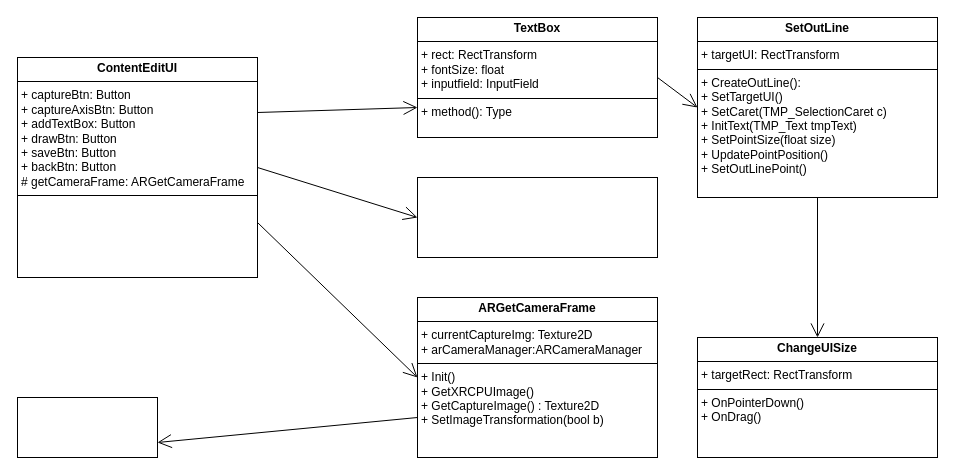
Some shapes in this 955 by 475 pixel diagram are drawn without their labels. Each missing label, with the centre of its shape:
ARCameraManager: the point at 87,427
ChangeUISize + field: Type + method(): Type: the point at 537,217
